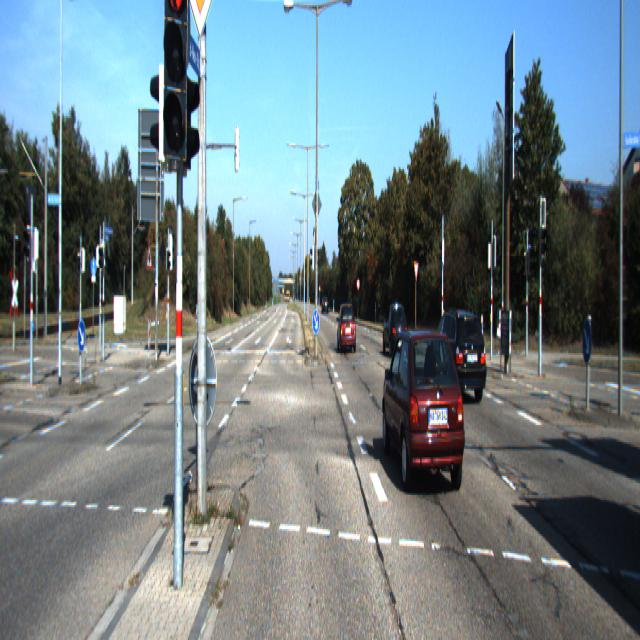Car: (382, 320, 466, 503), (426, 306, 488, 406), (632, 0, 640, 577), (382, 302, 409, 358), (337, 303, 356, 354), (638, 363, 639, 634)
